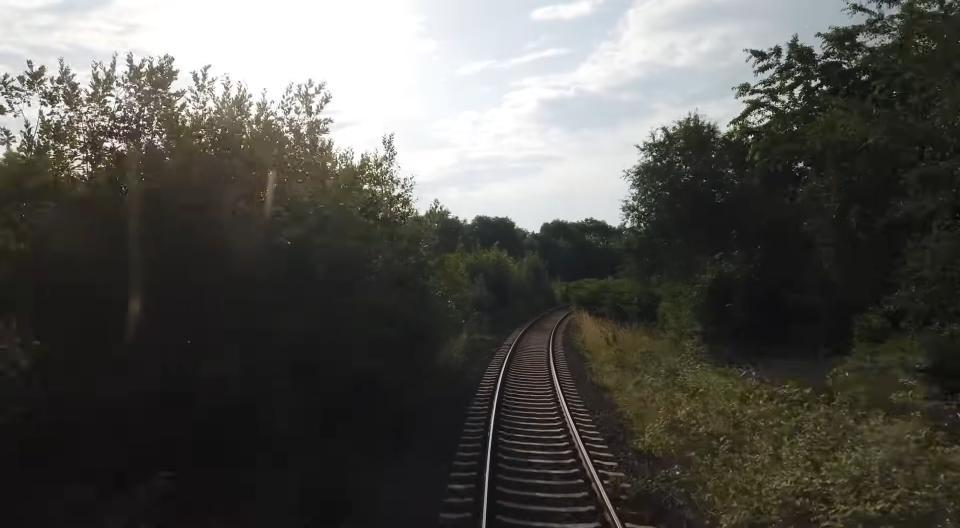Plant: (576, 311, 960, 528)
